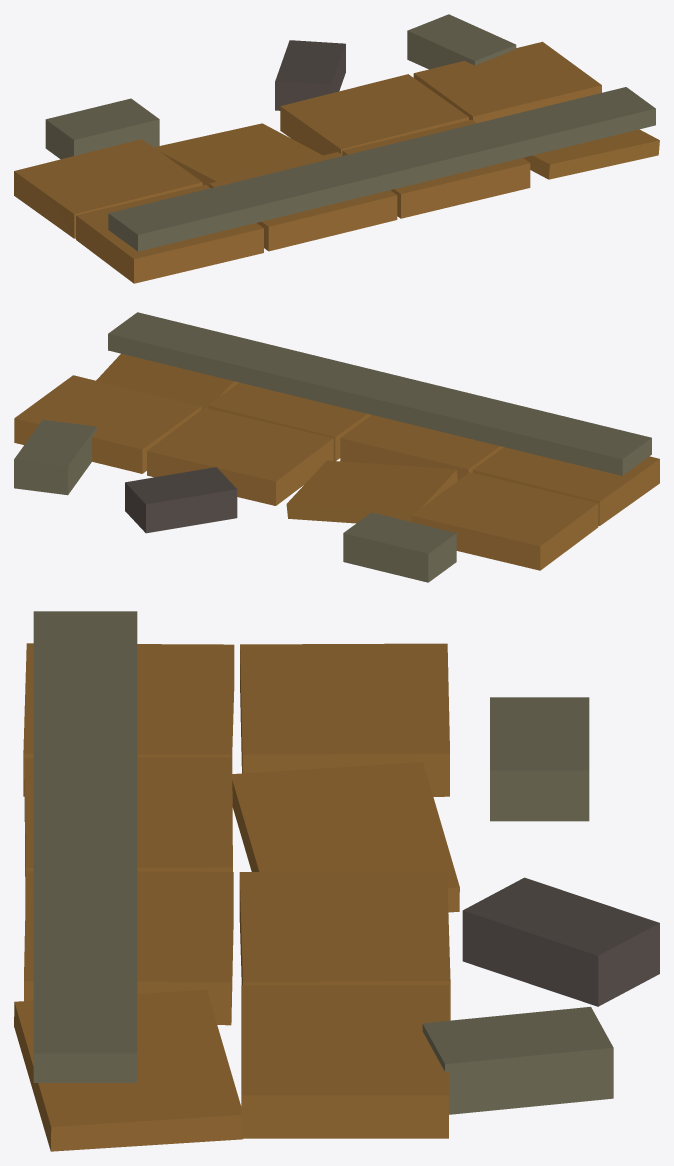
The model's file is SM_Banqueta_v3_LOD1.fbx.
The picture shows the model from 3 angles, top to bottom: view 1: azimuth 30°, elevation 25°; view 2: azimuth 150°, elevation 25°; view 3: azimuth 270°, elevation 25°; orthographic projection. The views are drawn at different scales.
Visible parts, largest first — view 1: SM_banqueta_tiro_v3_LOD1; view 2: SM_banqueta_tiro_v3_LOD1; view 3: SM_banqueta_tiro_v3_LOD1.
Boxes of the visible parts, x1=… form: SM_banqueta_tiro_v3_LOD1: x1=14, y1=14, x2=659, y2=283; SM_banqueta_tiro_v3_LOD1: x1=14, y1=312, x2=659, y2=582; SM_banqueta_tiro_v3_LOD1: x1=14, y1=611, x2=659, y2=1151.
Bounding box in the file's own units: 4.98 × 0.4668 × 2.99.
